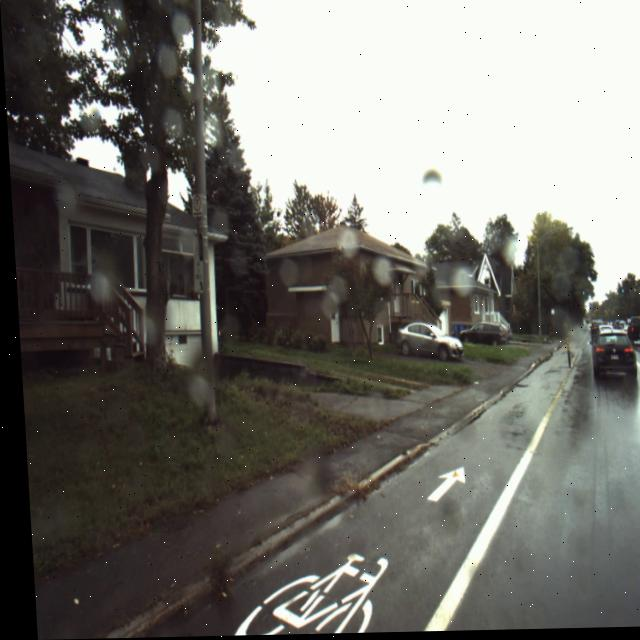car: (392, 324, 458, 363), (587, 333, 632, 384), (456, 325, 503, 350), (634, 315, 640, 356)
